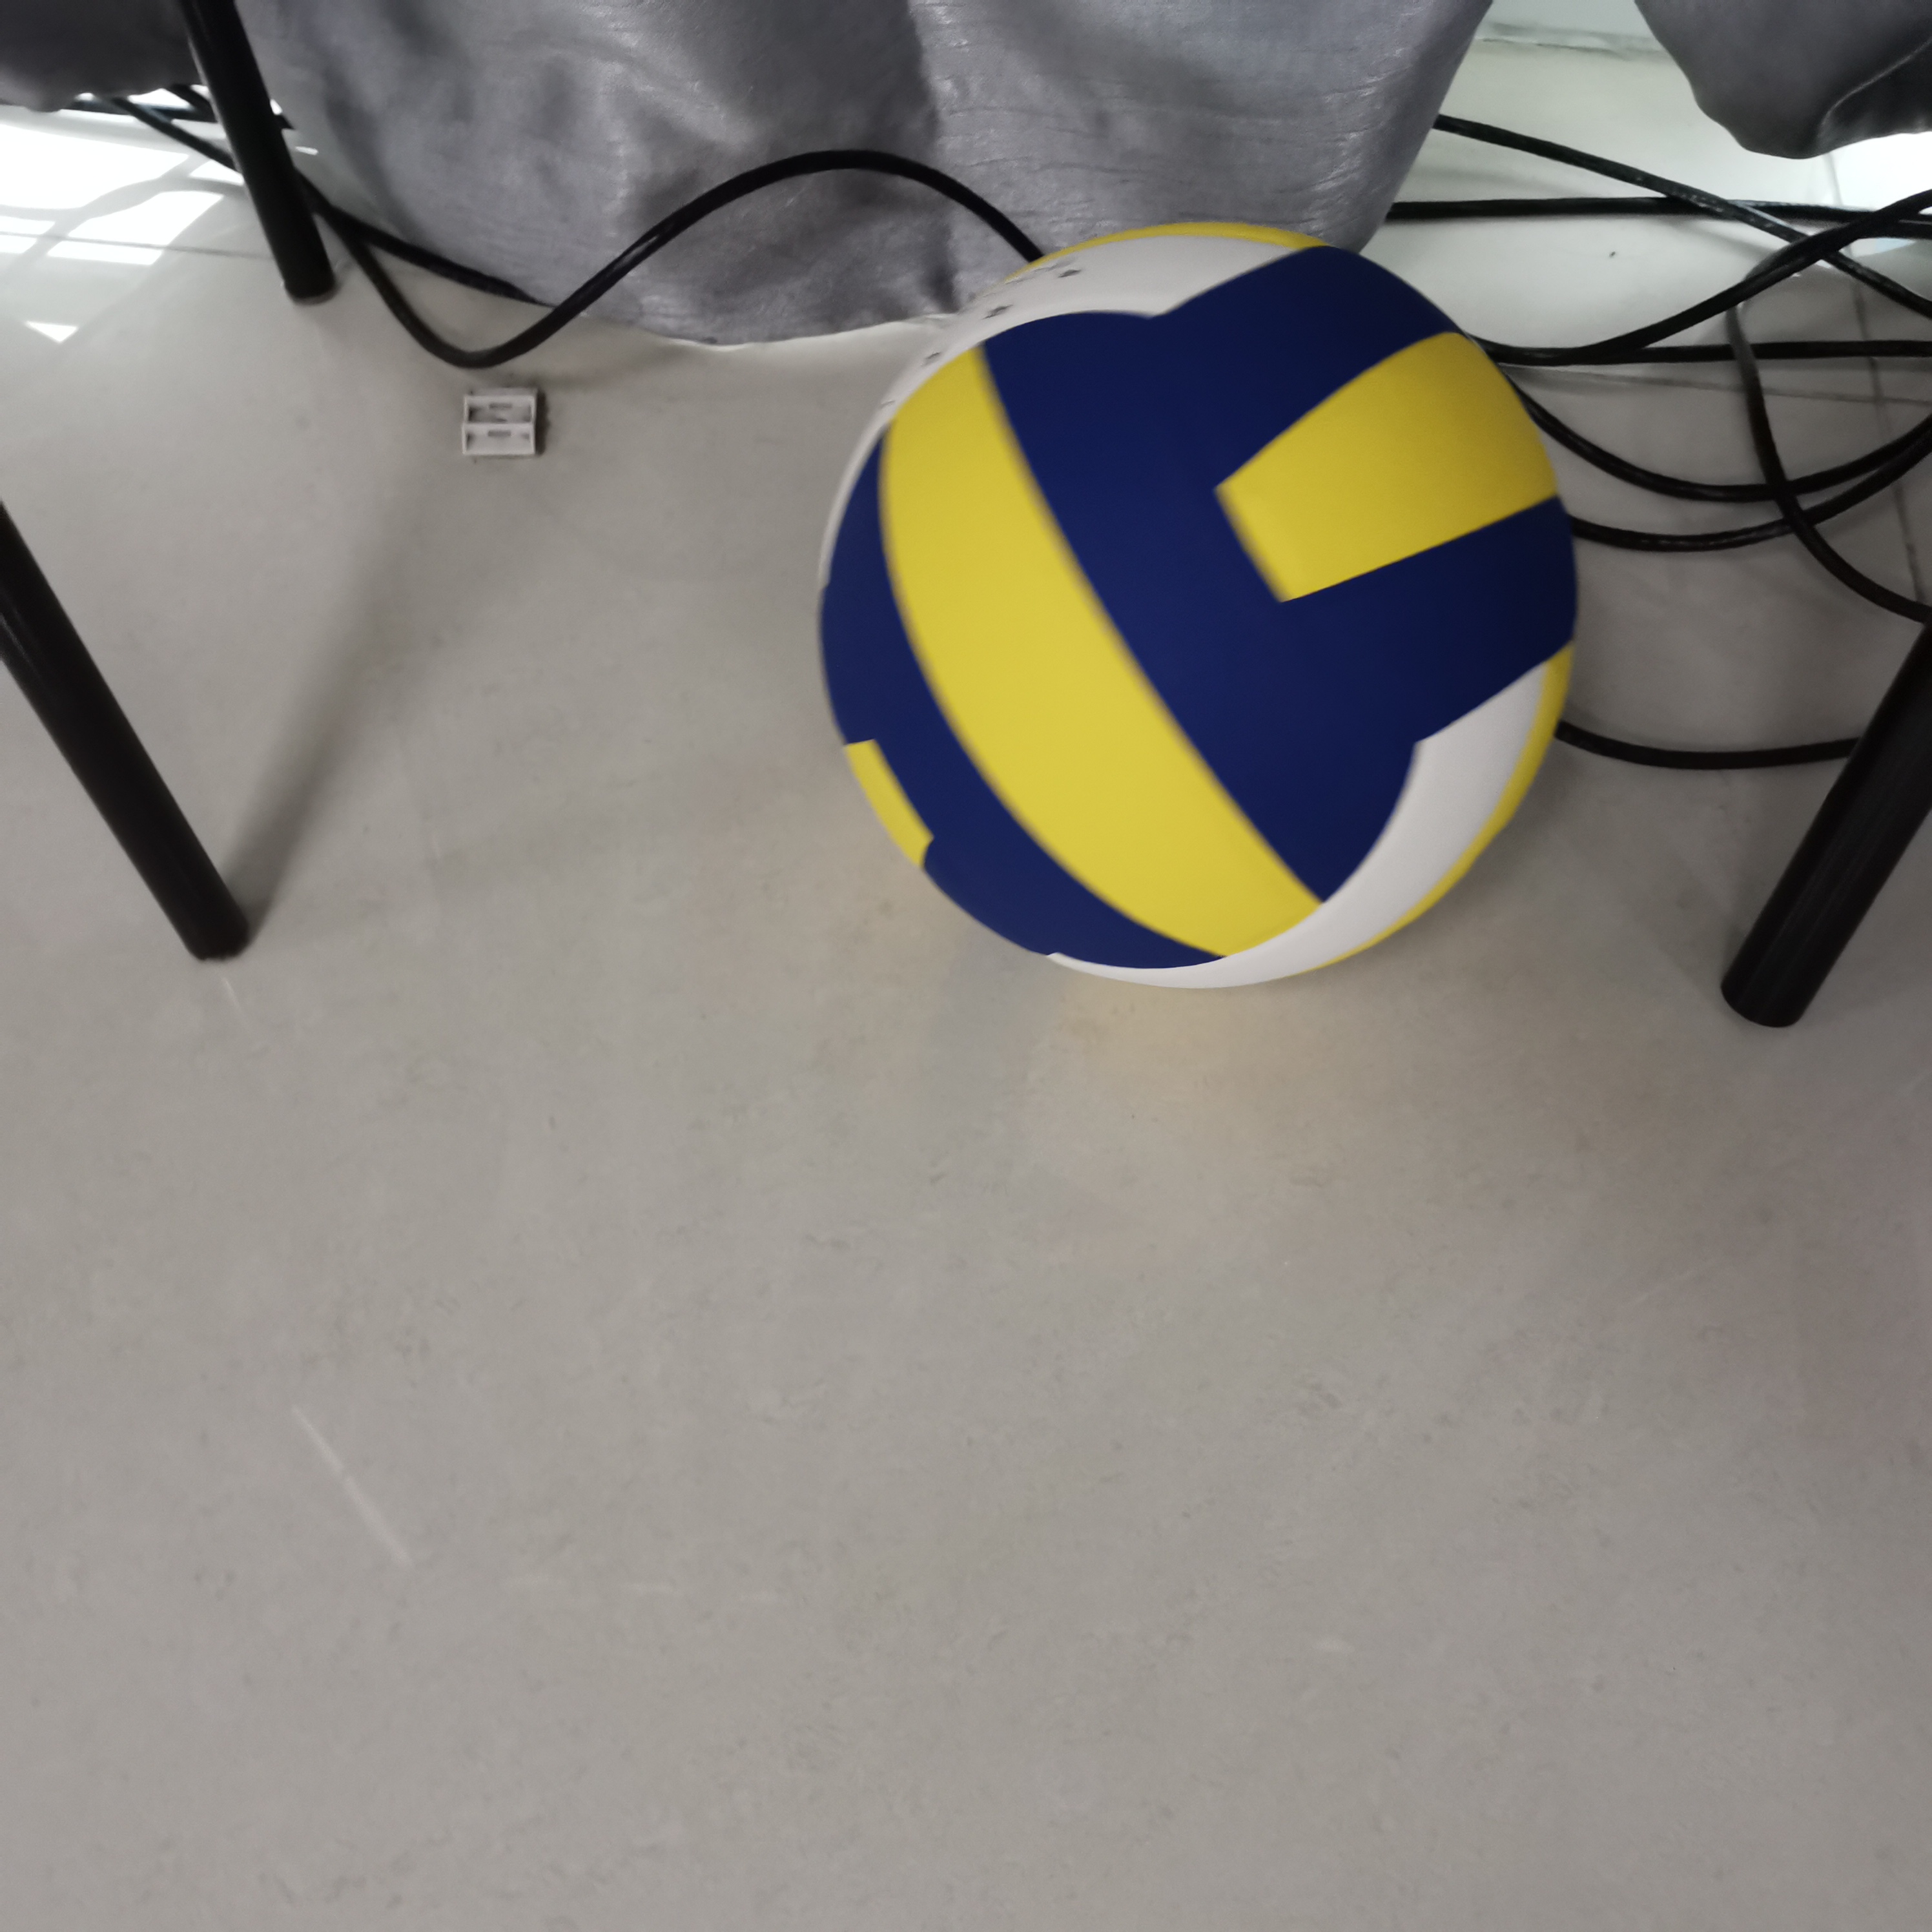volleyball: (821, 225, 1576, 998)
